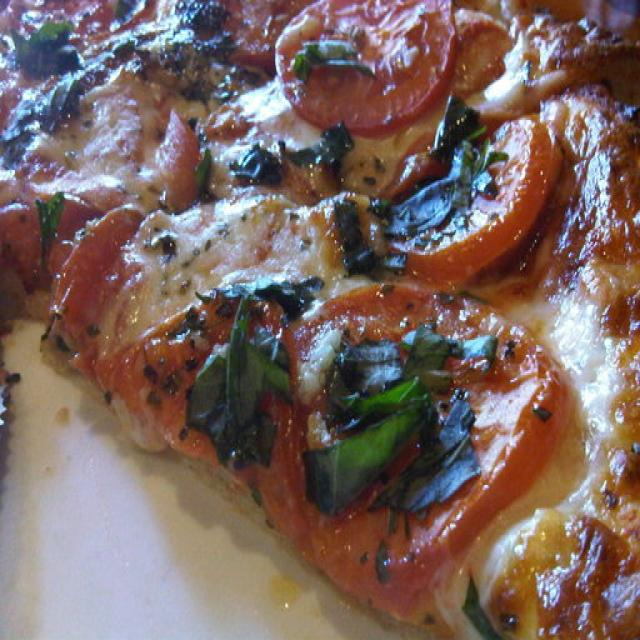Basil: (315, 349, 429, 505), (193, 303, 292, 457), (405, 145, 487, 226), (11, 74, 82, 150), (288, 31, 355, 97), (434, 392, 475, 494), (350, 192, 377, 274)
Tomato: (288, 299, 560, 561), (270, 0, 451, 115), (388, 138, 546, 261), (25, 191, 126, 322)
